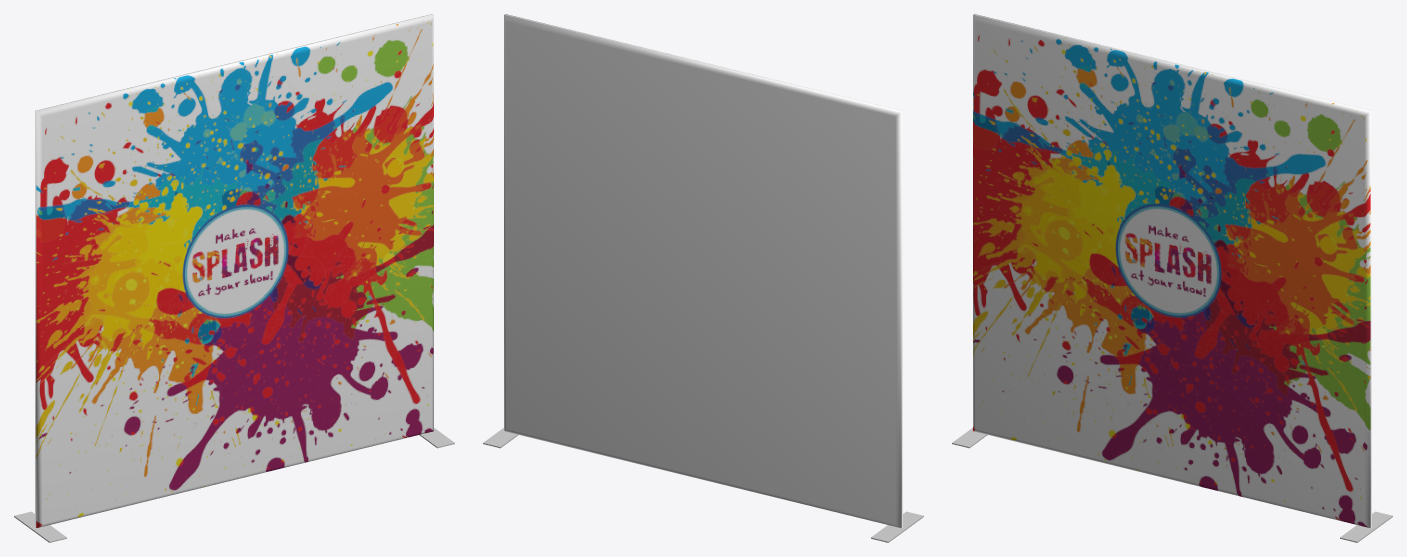
File: 91x91 y fix3.glb
The picture shows the model from 3 angles, left to right: view 1: azimuth 30°, elevation 25°; view 2: azimuth 150°, elevation 25°; view 3: azimuth 330°, elevation 25°; orthographic projection.
Parts seen in each view (by area): view 1: 91x91 Frame, Foot; view 2: 91x91 Frame, Foot; view 3: 91x91 Frame, Foot.001.
Part boxes in pixels (x1,y1,x2,y2): 91x91 Frame: (35, 14, 433, 527); Foot: (14, 511, 66, 542); 91x91 Frame: (504, 14, 902, 527); Foot: (871, 511, 923, 542); 91x91 Frame: (973, 14, 1371, 527); Foot.001: (1340, 511, 1392, 542).
Bounding box in the file's own units: 2.34 × 2.31 × 0.3556.
Materials: 3 (1 with a texture image).
